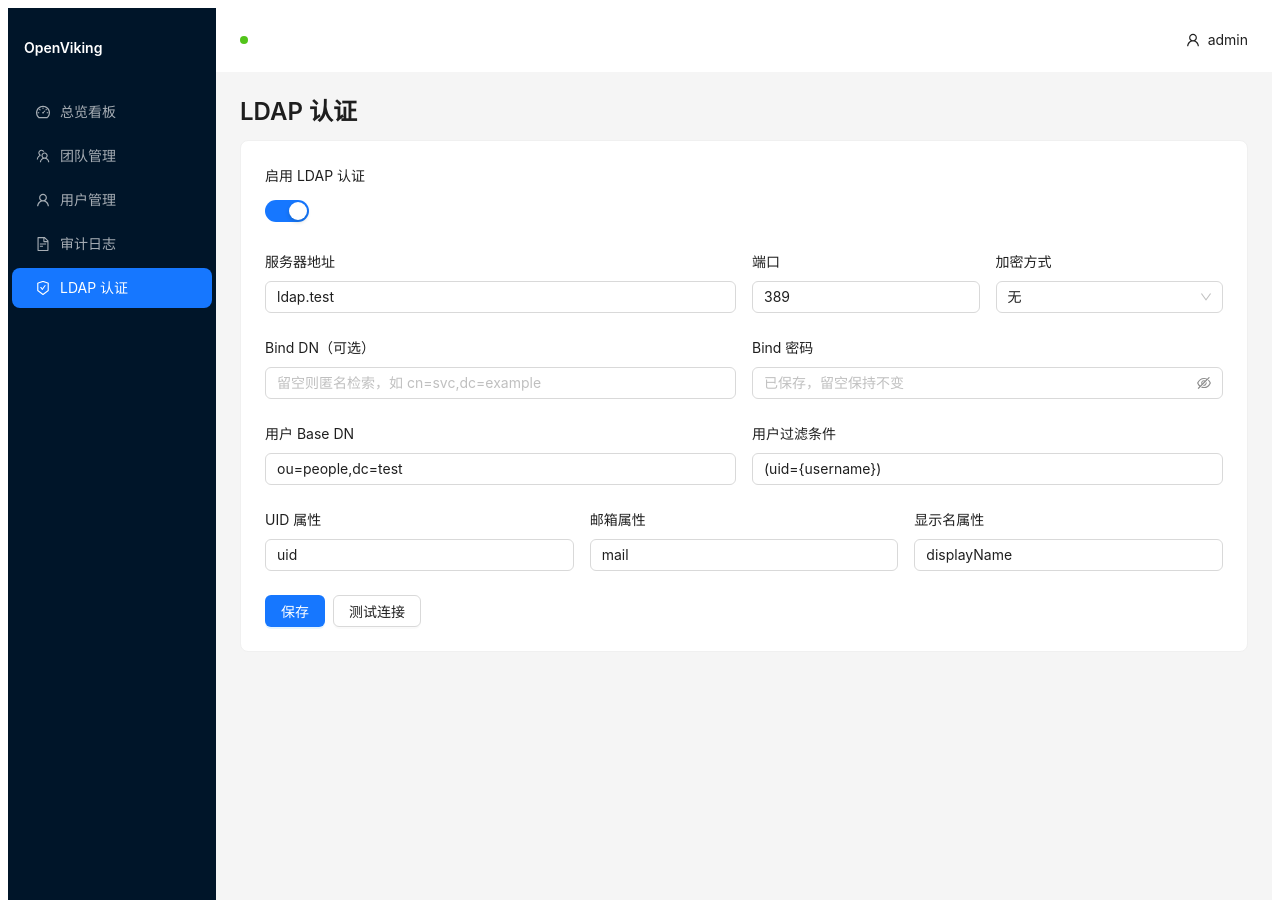
Test: LdapConfigPage › test_save_omits_empty_bind_password
Expected: the field labelled "服务器地址" holds "ldap.test", [265, 281, 736, 313]
# Bind DN 起始为空，补一个值使表单发生变化（user.clear 在 antd 受控输入上不可靠，改用追加输入）
Type "cn=new,dc=test" into the field labelled "Bind DN（可选）" at (500, 383), box [265, 367, 736, 399]
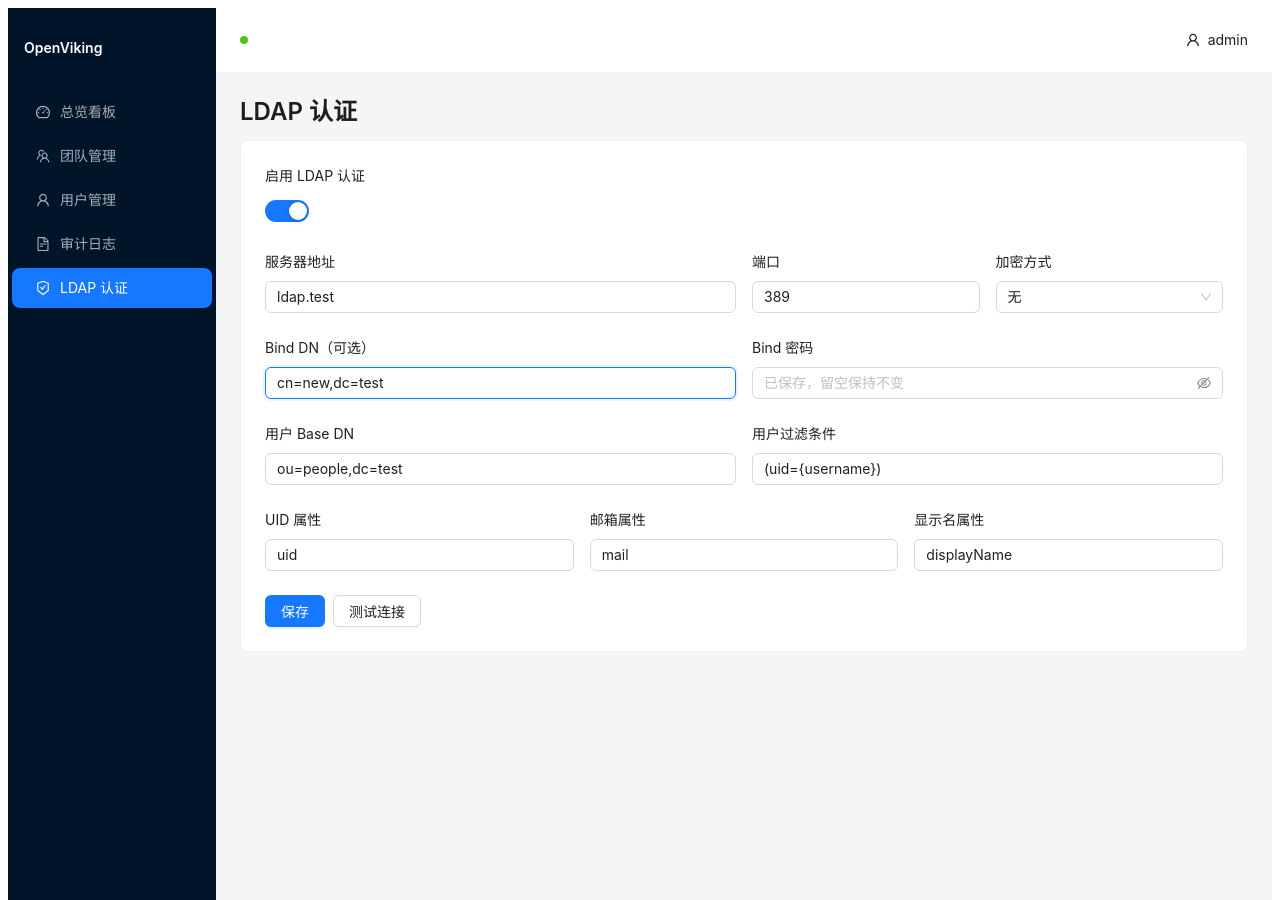
Click the button "保存" at (295, 611), box [265, 595, 325, 627]
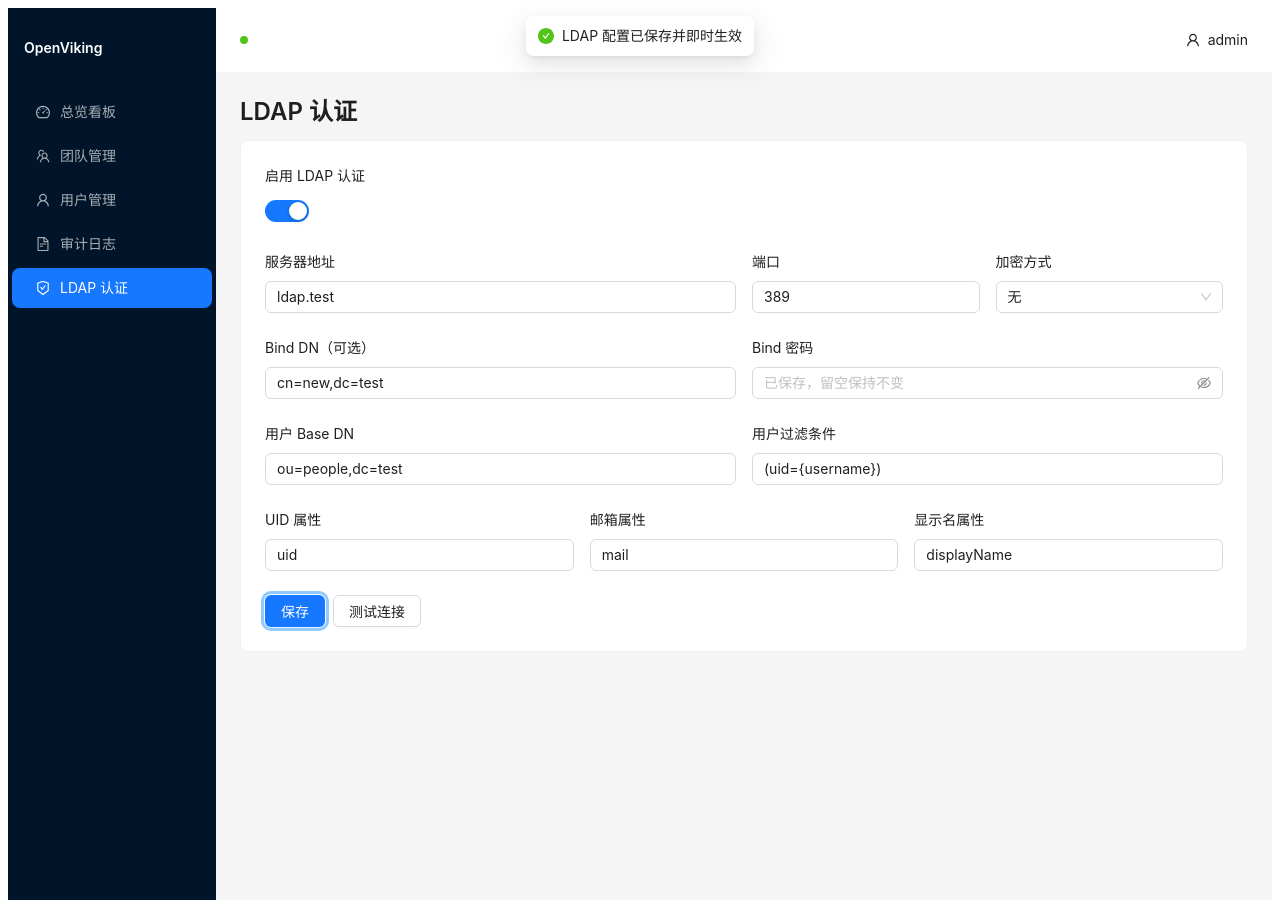
Result: the text "LDAP 配置已保存并即时生效" is shown at [562, 25, 742, 47]
